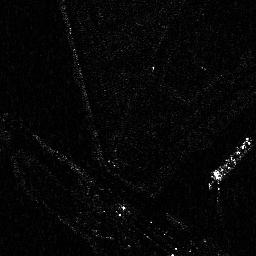ship: (206, 135, 252, 188)
